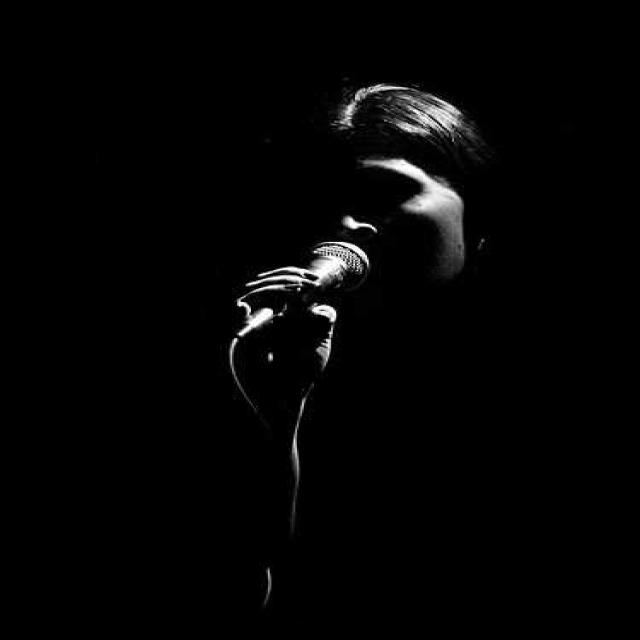microphone: (242, 235, 382, 329)
